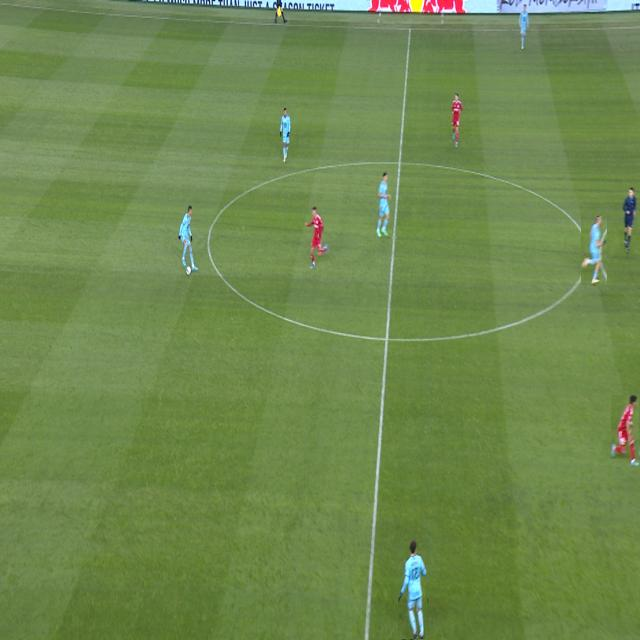football: (186, 266, 191, 276)
player: (399, 539, 427, 640), (612, 396, 639, 467), (581, 214, 607, 285), (304, 205, 329, 269), (178, 206, 198, 271), (376, 171, 392, 237), (451, 93, 463, 147), (280, 109, 291, 163), (518, 4, 529, 50)
referee: (622, 187, 637, 254)
